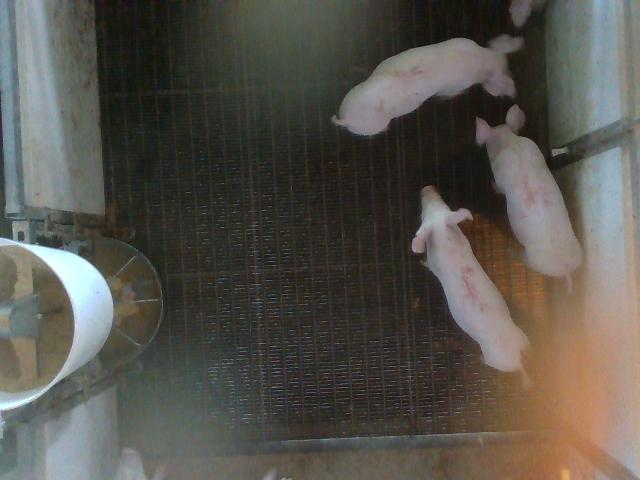pig-4: (476, 105, 582, 291)
pig-5: (412, 186, 529, 371)
